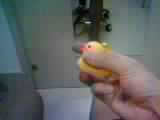duck: (70, 40, 114, 77)
